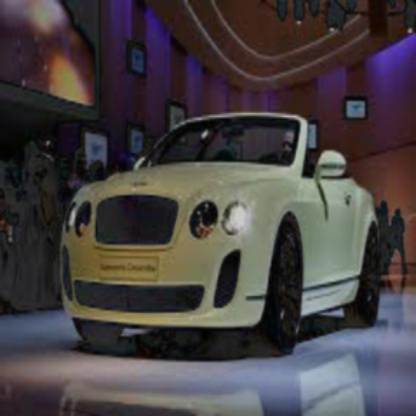Vehicle: (52, 99, 402, 362)
